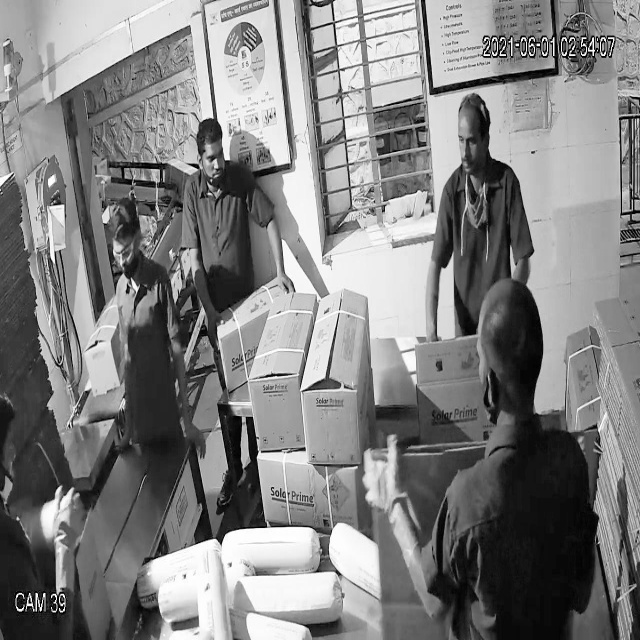Gafas: (108, 234, 146, 270)
Sin_gafas: (453, 121, 493, 159)
